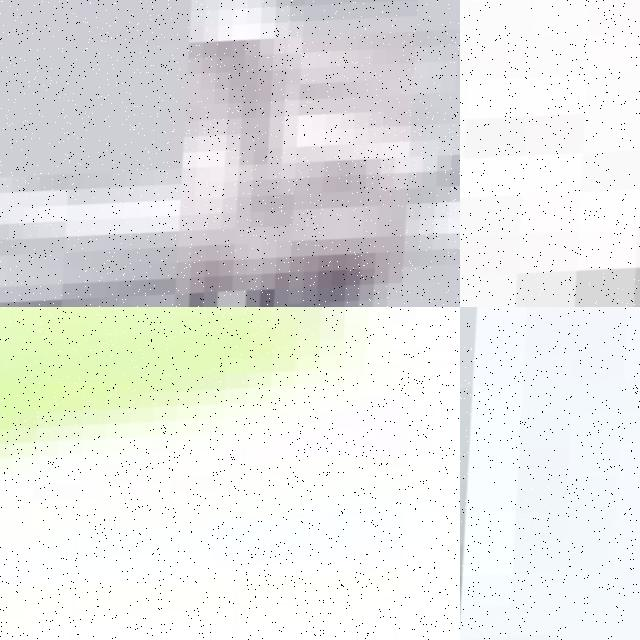drone: (0, 307, 460, 640), (0, 0, 460, 307), (460, 307, 640, 640), (460, 0, 640, 307)
